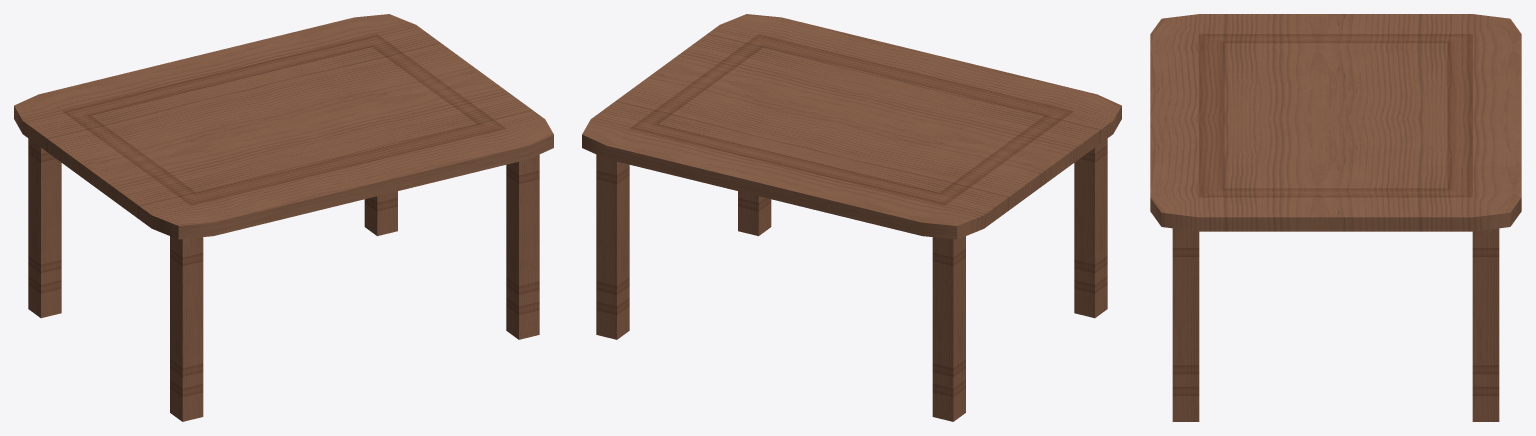
The model's file is table 1.fbx.
3 views of the same model, side by side, from view 1: azimuth 30°, elevation 25°; view 2: azimuth 150°, elevation 25°; view 3: azimuth 270°, elevation 25° (orthographic). The views are drawn at different scales.
Visible parts, largest first — view 1: pCube5; view 2: pCube5; view 3: pCube5.
Part boxes in pixels (x1=…): pCube5: x1=14, y1=14, x2=553, y2=421; pCube5: x1=582, y1=14, x2=1121, y2=421; pCube5: x1=1150, y1=14, x2=1521, y2=421.
Size of the model in its own units: 183 by 89.68 by 141.
